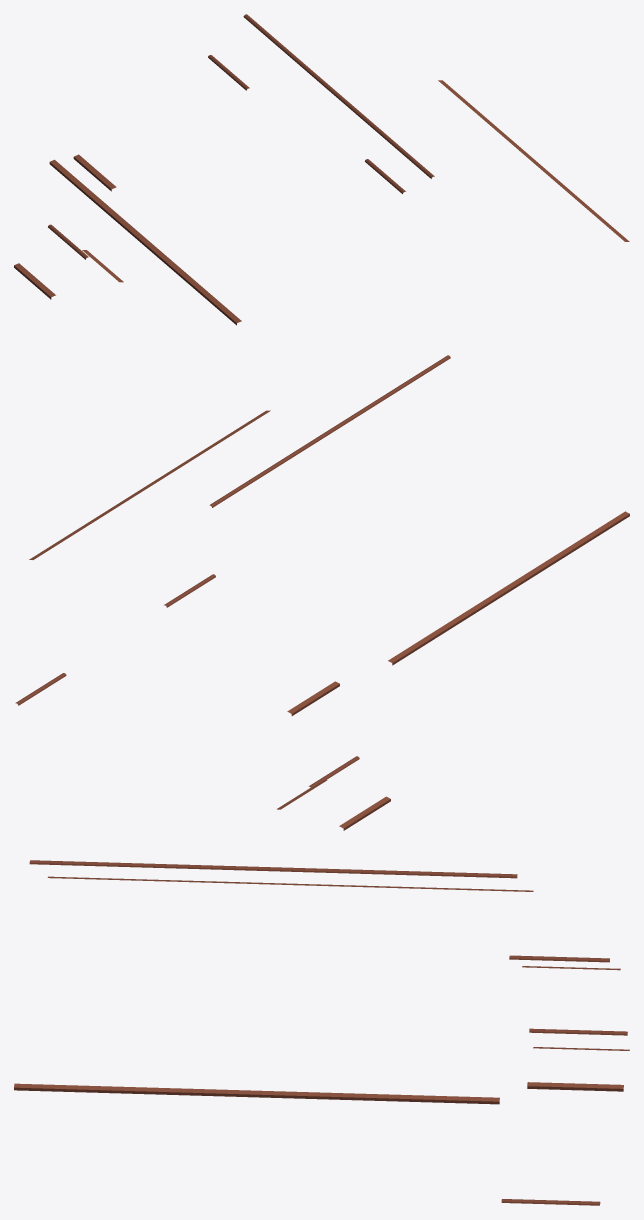
3 views of the same model, one above another, from view 1: azimuth 30°, elevation 25°; view 2: azimuth 150°, elevation 25°; view 3: azimuth 270°, elevation 25° (orthographic). The views are drawn at different scales.
Parts seen in each view (by area): view 1: detail; view 2: detail; view 3: detail.
Boxes of the visible parts, <box> form: detail: <box>14,14,629,325</box>; detail: <box>15,355,629,830</box>; detail: <box>14,860,629,1205</box>.
Bounding box in the file's own units: 26.39 × 15.42 × 30.53.
